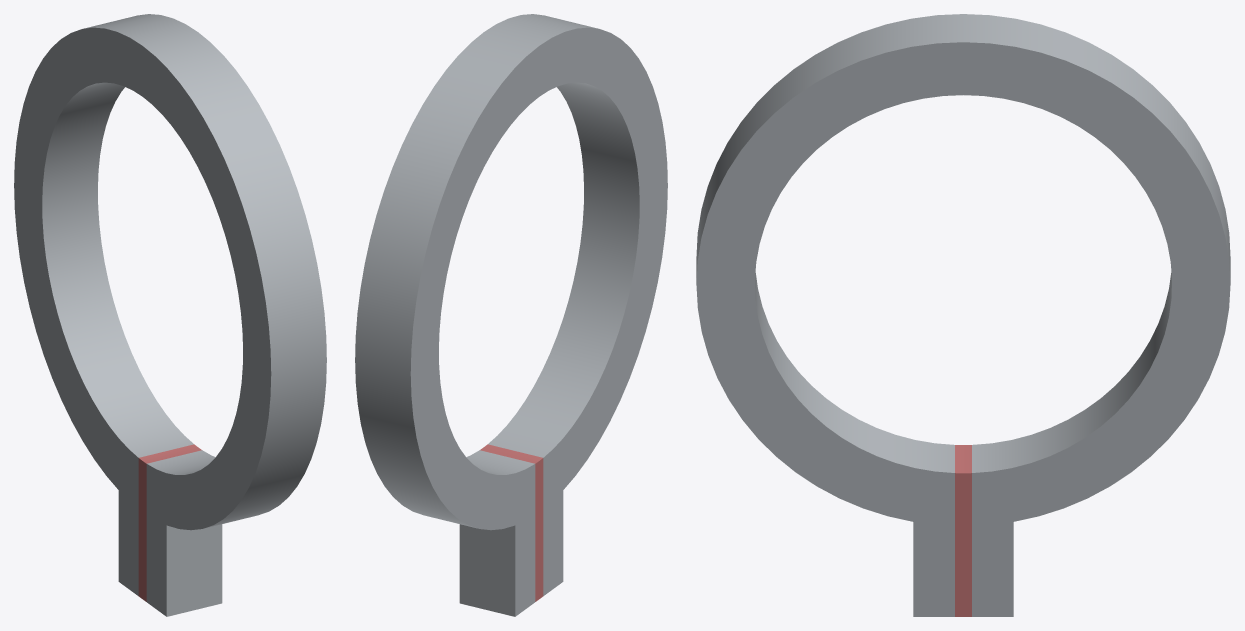
Rendered from step_03.glb.
3 views of the same model, side by side, from view 1: azimuth 30°, elevation 25°; view 2: azimuth 150°, elevation 25°; view 3: azimuth 270°, elevation 25° (orthographic). The views are drawn at different scales.
Visible parts, largest first — view 1: part__beam clamp collar, removed__beam clamp collar; view 2: part__beam clamp collar, removed__beam clamp collar; view 3: part__beam clamp collar, removed__beam clamp collar.
Part boxes in pixels (left/top/right/bottom): part__beam clamp collar: left=14, top=14, right=326, bottom=616; removed__beam clamp collar: left=138, top=444, right=201, bottom=601; part__beam clamp collar: left=355, top=14, right=667, bottom=616; removed__beam clamp collar: left=480, top=444, right=543, bottom=601; part__beam clamp collar: left=696, top=14, right=1230, bottom=616; removed__beam clamp collar: left=955, top=445, right=971, bottom=616.
Size of the model in its own units: 8 by 76 by 64.
